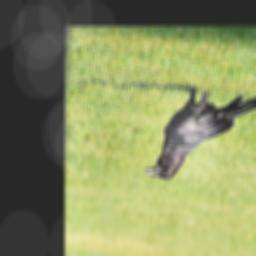Crow: (142, 84, 256, 182)
